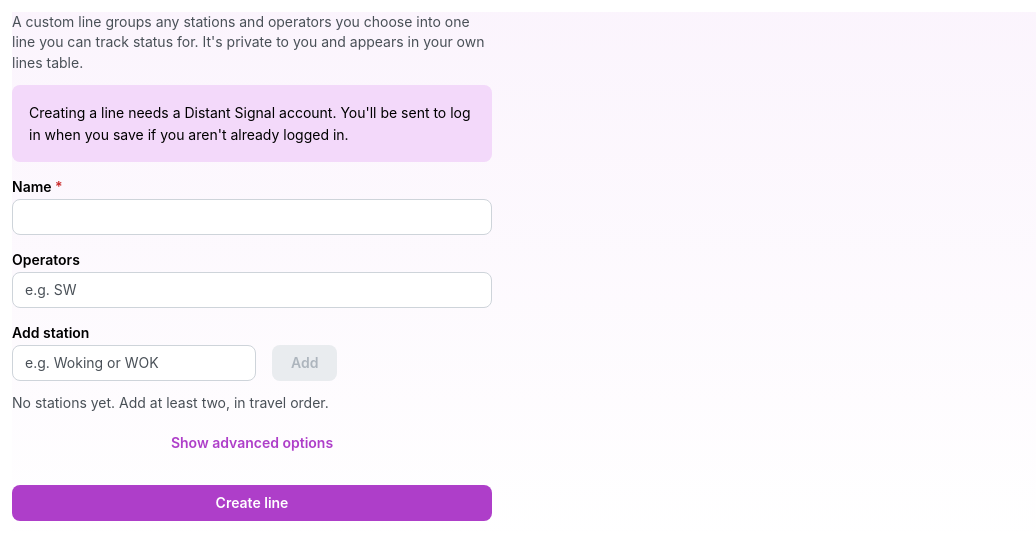
CustomLineForm › selecting a station suggestion shows it in the Add station field by name and code
In the dropdown labelled "Add station": (134,363) [12,345,256,381], type "wok"
Wait 250 ms
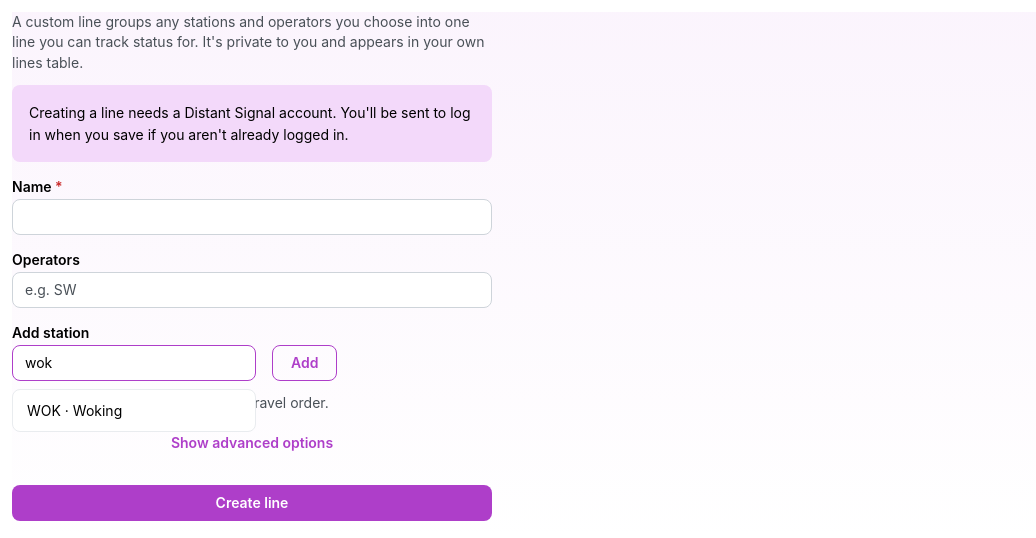
Click the option "WOK · Woking": (75,410) [27,402,122,419]
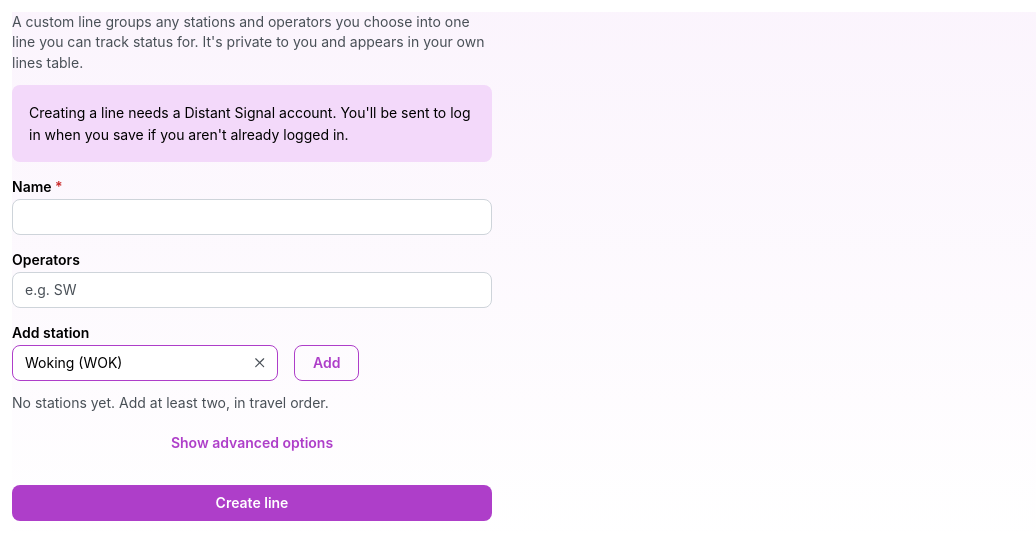
Check: the dropdown labelled "Add station" holds "Woking (WOK)", box [12,345,278,381]
